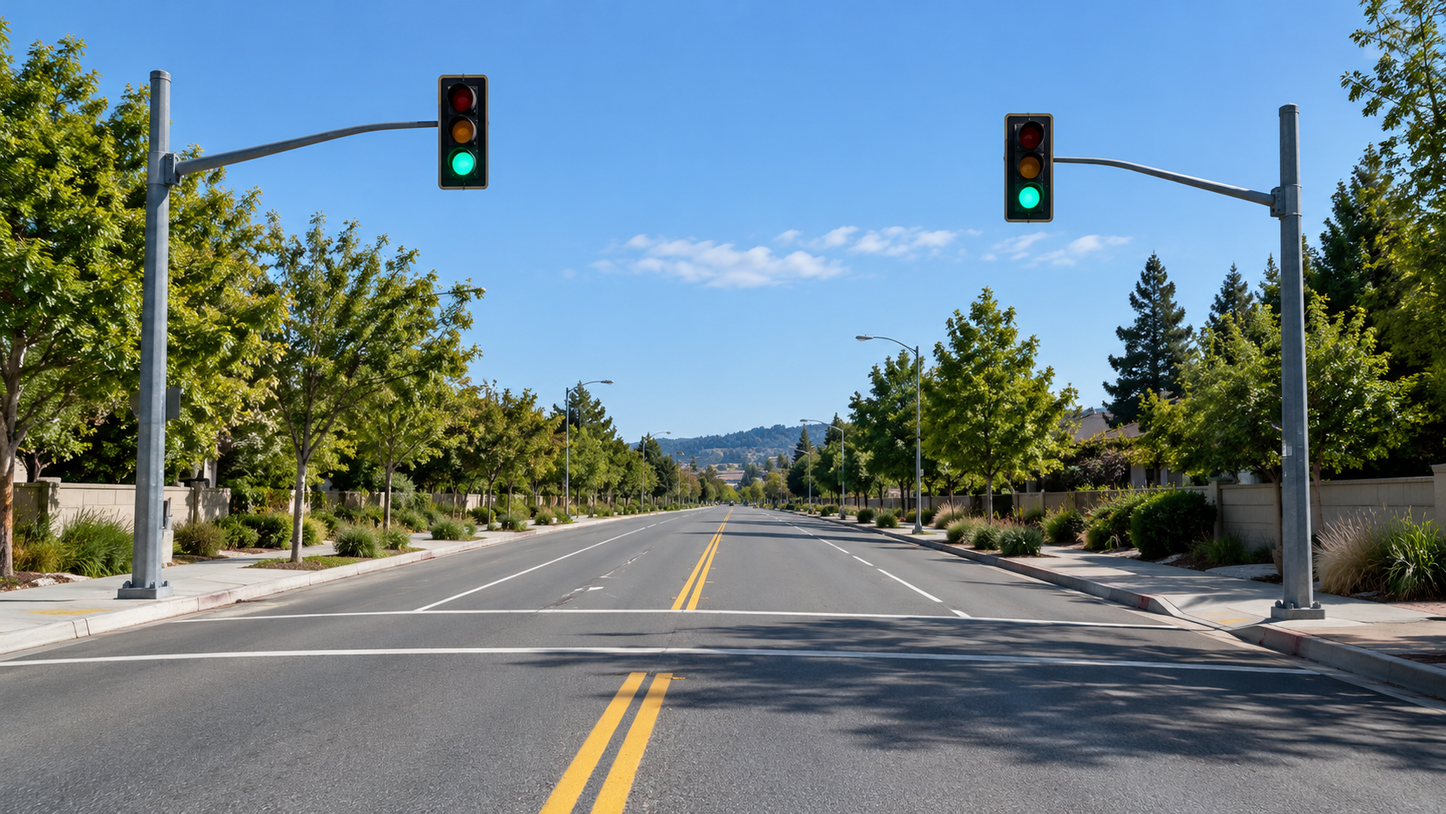traffic_light: (1001, 111, 1056, 221), (438, 75, 489, 189)
